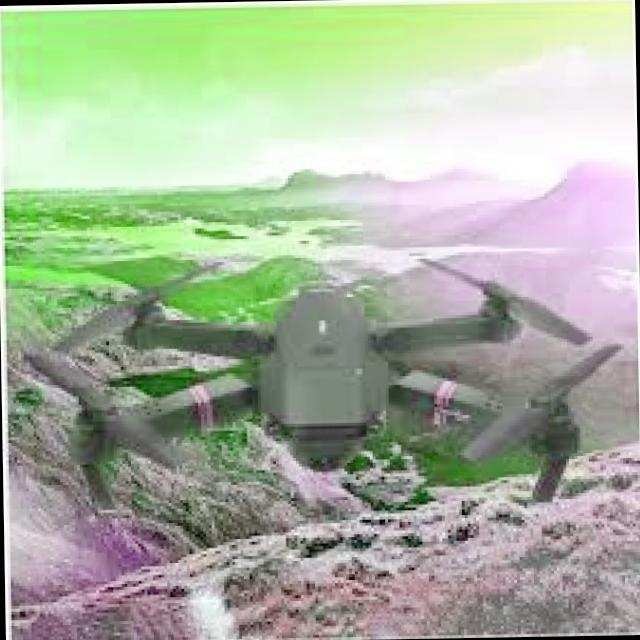drone: (19, 234, 628, 550)
